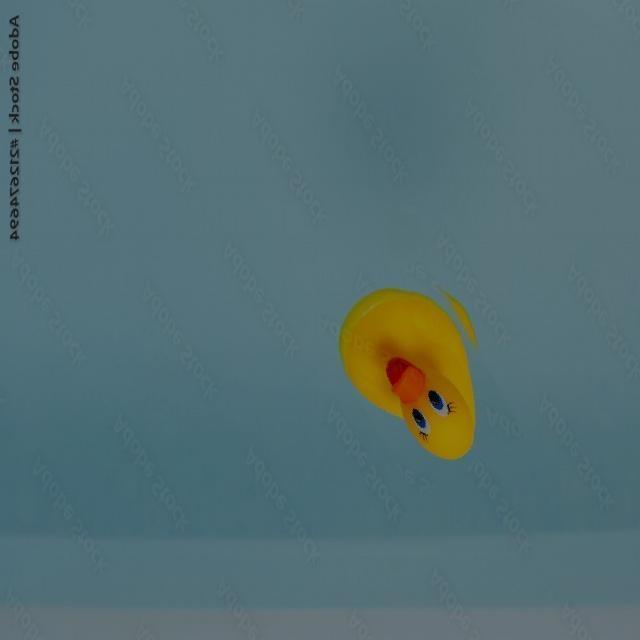rubber-duck: (339, 288, 473, 457)
